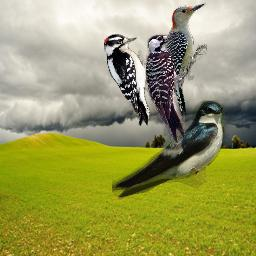Swallow: (112, 100, 225, 200)
Woodpecker: (165, 1, 208, 123), (146, 33, 185, 143), (104, 34, 150, 126)
